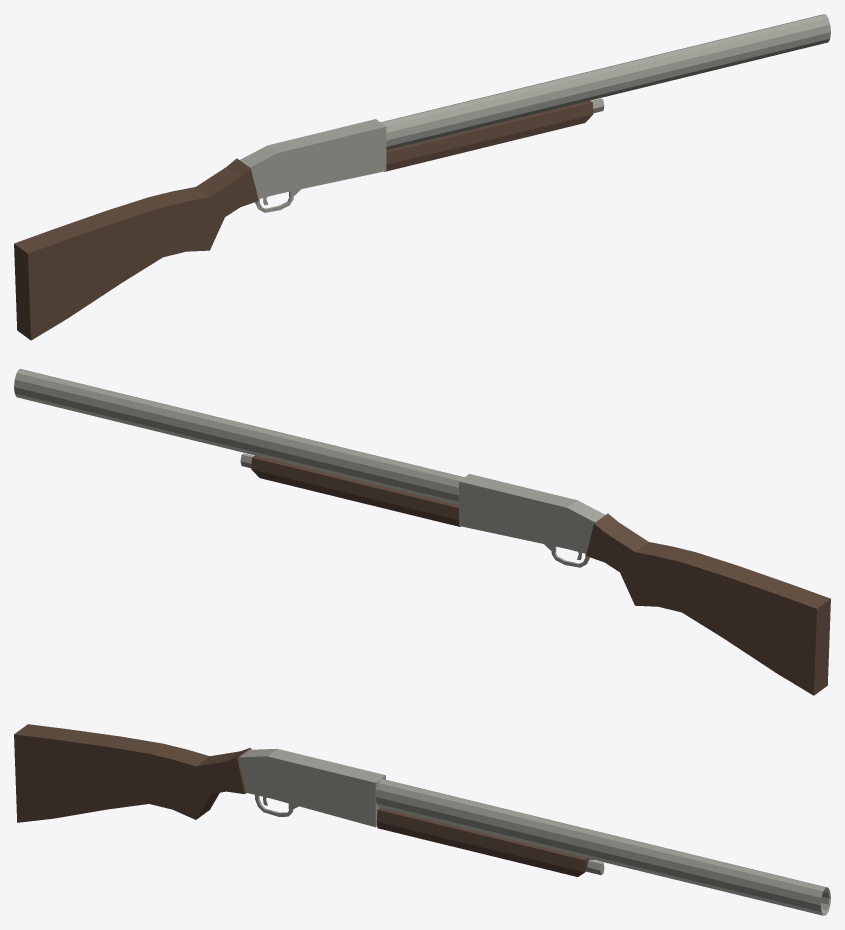
3 views of the same model, one above another, from view 1: azimuth 30°, elevation 25°; view 2: azimuth 150°, elevation 25°; view 3: azimuth 330°, elevation 25° (orthographic).
Parts seen in each view (by area): view 1: Cube.001, Cube; view 2: Cube.001, Cube; view 3: Cube, Cube.001.
Part boxes in pixels (x1=…): Cube.001: x1=14, y1=100, x2=593, y2=340; Cube: x1=240, y1=14, x2=830, y2=212; Cube.001: x1=251, y1=455, x2=830, y2=695; Cube: x1=14, y1=369, x2=605, y2=567; Cube: x1=239, y1=748, x2=830, y2=915; Cube.001: x1=14, y1=724, x2=592, y2=876.
Bounding box in the file's own units: 470 × 70.18 × 14.09.
